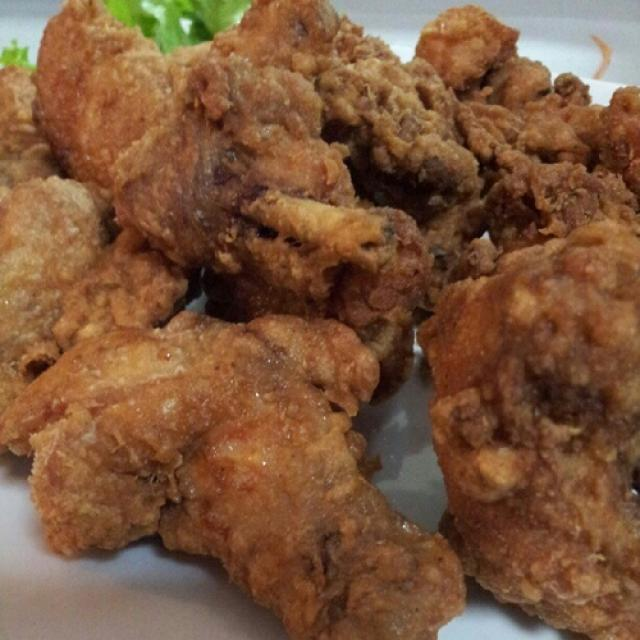鸡肉料理 含炸鸡: (13, 13, 623, 621)
